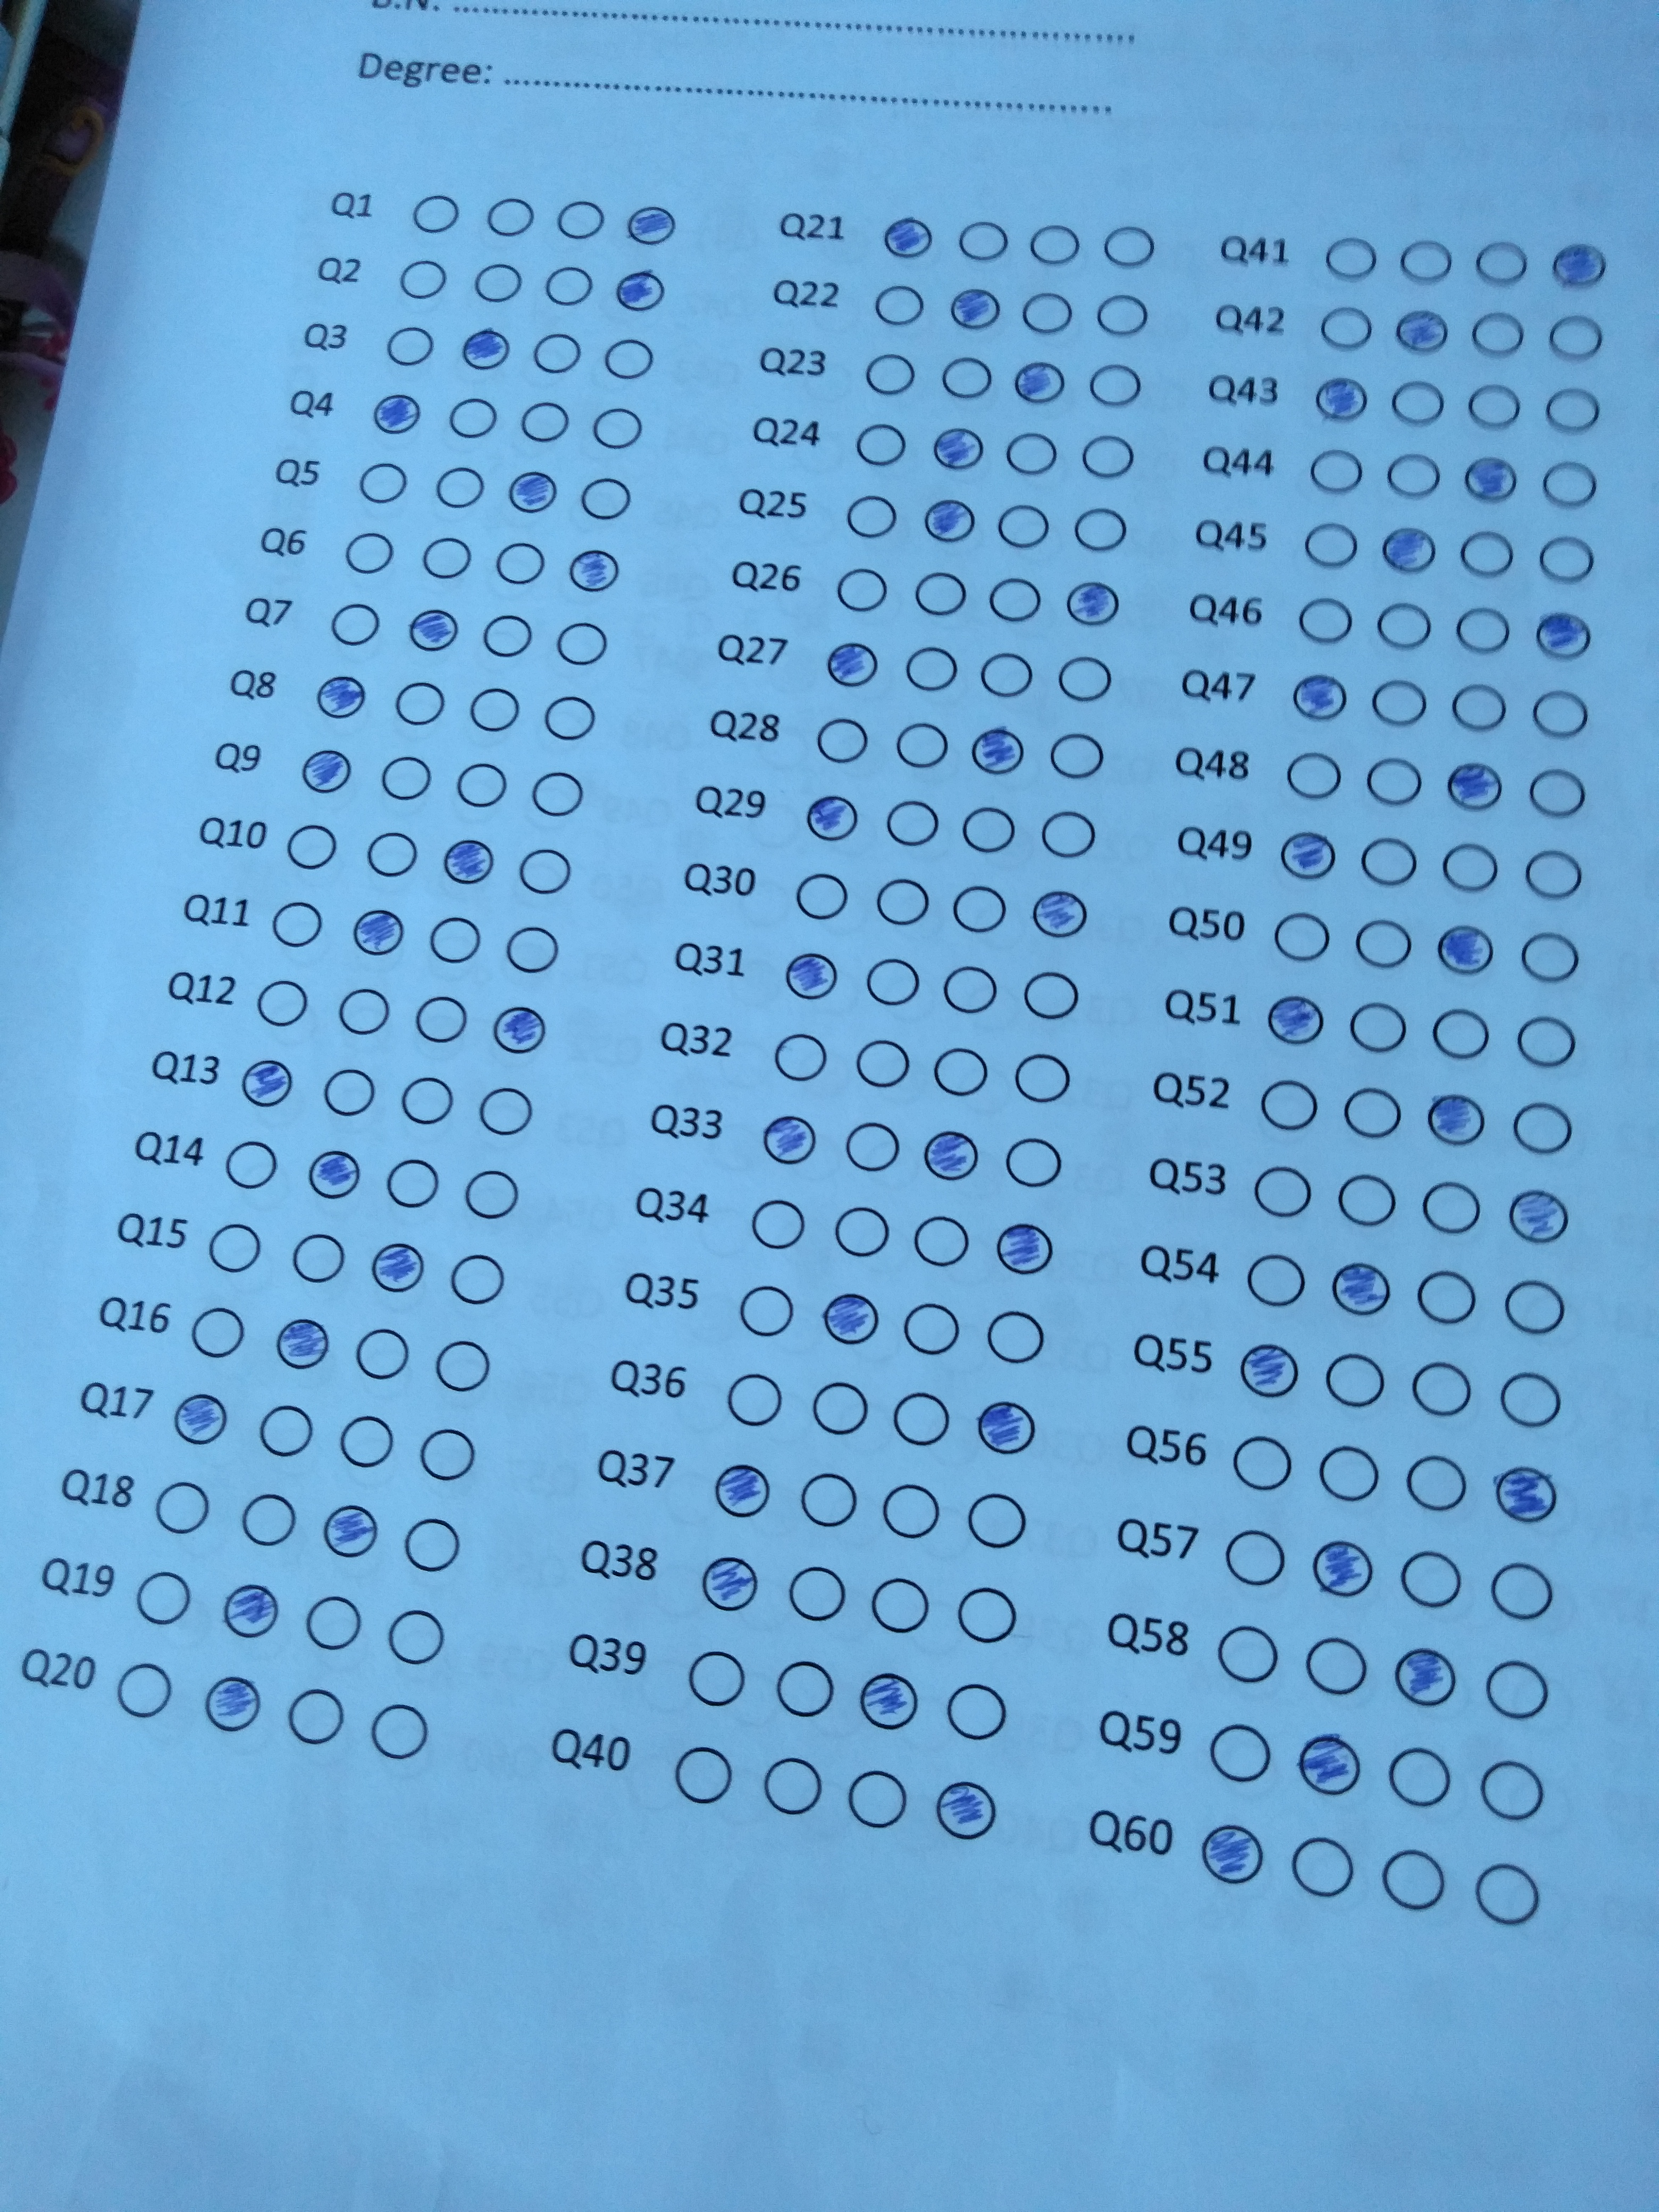not-c: (1211, 1622, 1283, 1688), (1478, 1761, 1549, 1827), (1384, 1745, 1455, 1811), (1204, 1723, 1276, 1787), (1286, 1834, 1358, 1898), (1473, 1860, 1544, 1925), (1380, 1848, 1450, 1912), (1500, 1278, 1570, 1341), (1405, 1357, 1474, 1420), (1405, 1449, 1474, 1512), (1316, 1440, 1385, 1503), (1486, 1562, 1556, 1625), (885, 1386, 951, 1451), (896, 1296, 962, 1360), (981, 1305, 1047, 1369), (1009, 1049, 1075, 1113), (927, 1043, 993, 1108), (849, 1033, 915, 1097), (769, 1024, 835, 1089), (1239, 1251, 1307, 1313), (1324, 1346, 1392, 1409), (1497, 1367, 1565, 1430), (1229, 1435, 1297, 1498), (1222, 1527, 1290, 1590), (953, 1585, 1019, 1648), (962, 1489, 1028, 1552), (809, 1378, 875, 1440), (723, 1367, 789, 1430), (732, 1282, 798, 1345), (746, 1197, 812, 1259), (842, 1118, 908, 1181), (1000, 1136, 1066, 1198), (1396, 1548, 1464, 1609), (1481, 1658, 1549, 1719), (1302, 1634, 1370, 1695), (868, 1578, 932, 1641), (786, 1562, 850, 1625), (795, 1468, 859, 1531), (877, 1480, 941, 1543), (908, 1211, 972, 1273), (831, 1202, 896, 1264), (387, 1604, 450, 1667), (368, 1700, 430, 1763), (336, 1414, 399, 1477), (352, 1324, 415, 1386), (380, 1155, 443, 1217), (221, 1136, 284, 1198), (202, 1217, 265, 1280), (288, 1230, 350, 1292), (186, 1301, 249, 1364), (258, 1402, 321, 1465), (239, 1489, 301, 1552), (152, 1479, 214, 1541), (113, 1662, 176, 1724), (673, 1745, 735, 1808), (763, 1756, 826, 1818), (847, 1768, 910, 1831), (772, 1658, 835, 1721), (943, 1683, 1006, 1745), (286, 1686, 349, 1747), (301, 1592, 364, 1653), (132, 1566, 195, 1627), (683, 1651, 746, 1712), (957, 799, 1019, 860), (1516, 1010, 1581, 1069), (1249, 1162, 1314, 1221), (863, 951, 924, 1012), (890, 718, 951, 779), (939, 961, 1002, 1021), (871, 874, 934, 934), (880, 796, 943, 855), (1039, 805, 1101, 864), (1520, 928, 1582, 988), (1511, 1099, 1574, 1158), (1424, 1179, 1486, 1238), (1338, 1172, 1401, 1231), (1340, 1085, 1403, 1144), (1345, 998, 1408, 1057), (1429, 1008, 1492, 1068), (1349, 916, 1412, 975), (1267, 911, 1330, 970), (1415, 1268, 1480, 1325), (1019, 967, 1080, 1026), (948, 880, 1009, 939), (793, 867, 854, 927), (812, 714, 873, 773), (1046, 728, 1107, 787), (1054, 648, 1115, 707), (978, 646, 1039, 705), (901, 637, 962, 697), (831, 563, 892, 622), (910, 563, 971, 622), (1258, 1076, 1321, 1134), (434, 1338, 493, 1395), (418, 1425, 477, 1482), (401, 1515, 460, 1573), (1467, 307, 1530, 361), (1455, 528, 1518, 582), (1537, 456, 1600, 510), (1373, 599, 1436, 653), (1525, 766, 1588, 820), (983, 573, 1044, 627), (992, 502, 1053, 556), (1002, 427, 1063, 481), (852, 420, 913, 474), (842, 491, 903, 545), (861, 350, 922, 404), (1084, 359, 1145, 413), (1091, 293, 1152, 347), (1018, 291, 1079, 345), (868, 282, 929, 336), (1023, 218, 1084, 272), (1100, 219, 1161, 273), (1323, 230, 1384, 284), (1317, 301, 1378, 355), (1385, 376, 1446, 430), (1460, 378, 1521, 432), (1544, 385, 1605, 439), (1546, 312, 1607, 366), (1473, 239, 1534, 293), (1394, 235, 1455, 289), (1382, 449, 1443, 503), (1305, 448, 1366, 502), (1300, 516, 1361, 570), (1535, 531, 1596, 585), (1453, 603, 1514, 657), (1295, 596, 1356, 650), (1370, 672, 1431, 726), (1450, 679, 1511, 733), (1528, 688, 1589, 742), (1283, 749, 1344, 803), (1358, 834, 1419, 888), (1523, 846, 1584, 900), (934, 355, 997, 408), (411, 991, 471, 1045), (396, 1075, 455, 1129), (462, 1169, 521, 1223), (1070, 507, 1131, 559), (1073, 432, 1134, 484), (953, 216, 1014, 268), (1364, 754, 1425, 806), (1439, 841, 1500, 894), (336, 986, 394, 1040), (322, 1064, 380, 1118), (253, 979, 312, 1031), (476, 1085, 535, 1137), (450, 1254, 507, 1306), (542, 691, 599, 742), (453, 759, 511, 810), (390, 681, 448, 732), (378, 756, 436, 806), (516, 845, 573, 895), (282, 820, 340, 871), (268, 897, 326, 948), (425, 913, 483, 963), (504, 925, 561, 975), (554, 620, 610, 671), (530, 768, 586, 819), (469, 685, 525, 735), (326, 599, 382, 650), (366, 829, 422, 880), (599, 336, 655, 383), (518, 397, 573, 444), (432, 465, 488, 512), (355, 460, 411, 507), (418, 535, 474, 582), (491, 542, 547, 589), (479, 613, 535, 660), (592, 406, 647, 453), (446, 395, 500, 442), (342, 529, 396, 577), (383, 324, 437, 369), (530, 331, 584, 376), (579, 475, 633, 521), (552, 199, 606, 242), (396, 256, 450, 300), (408, 192, 462, 233), (481, 197, 535, 239), (540, 265, 594, 307), (472, 261, 526, 303)
taken-c: (857, 1669, 924, 1735), (974, 1397, 1040, 1463), (695, 1550, 762, 1616), (1295, 1733, 1363, 1797), (1197, 1824, 1265, 1888), (936, 1780, 1000, 1846), (816, 1291, 882, 1355), (697, 1552, 762, 1616), (1507, 1188, 1574, 1249), (1495, 1465, 1561, 1526), (1392, 1649, 1459, 1710), (1330, 1259, 1394, 1320), (1236, 1343, 1302, 1402), (1309, 1540, 1375, 1599), (992, 1219, 1054, 1280), (922, 1127, 985, 1188), (779, 946, 842, 1007), (1063, 577, 1126, 637), (709, 1461, 772, 1521), (756, 1113, 819, 1172), (1028, 888, 1091, 948), (802, 792, 864, 852), (965, 725, 1028, 784), (819, 637, 882, 697), (220, 1583, 281, 1642), (200, 1677, 261, 1737), (1532, 606, 1593, 665), (1445, 759, 1506, 819), (1279, 826, 1340, 885), (1427, 1089, 1488, 1148), (1291, 671, 1352, 728), (1436, 921, 1497, 979), (1265, 993, 1324, 1050), (305, 1150, 366, 1205), (270, 1318, 331, 1374), (321, 1505, 382, 1561), (235, 1059, 296, 1113), (368, 1242, 429, 1296), (169, 1392, 230, 1446), (298, 747, 357, 798), (437, 838, 497, 888), (349, 907, 408, 958), (917, 495, 976, 545), (929, 423, 988, 474), (1012, 361, 1072, 411), (877, 214, 936, 265), (1391, 305, 1450, 355), (1309, 373, 1368, 423), (946, 286, 1004, 336), (1549, 240, 1607, 291), (1460, 453, 1518, 503), (1380, 526, 1438, 577), (312, 674, 369, 723), (488, 1005, 545, 1054), (613, 268, 666, 319), (626, 202, 678, 251), (369, 392, 422, 441), (566, 549, 619, 597), (406, 608, 462, 653), (462, 327, 512, 376), (505, 469, 556, 517)
